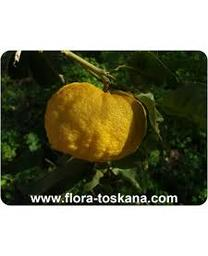lemon: (44, 80, 147, 161)
